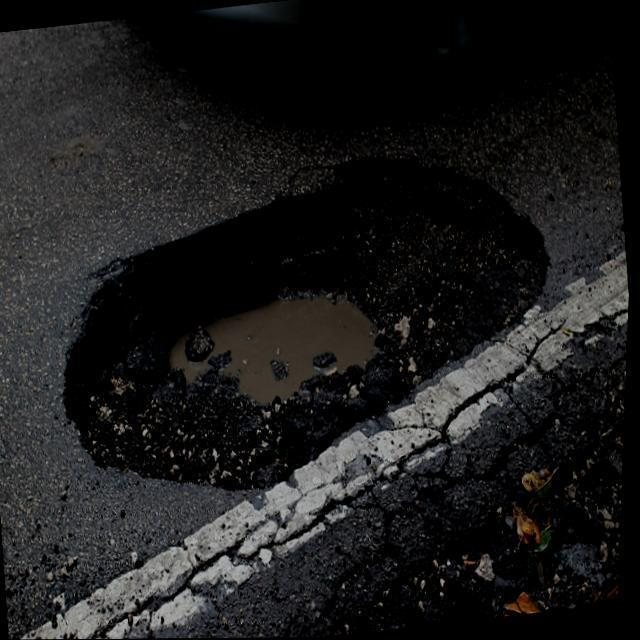Pothole: (66, 157, 549, 491)
